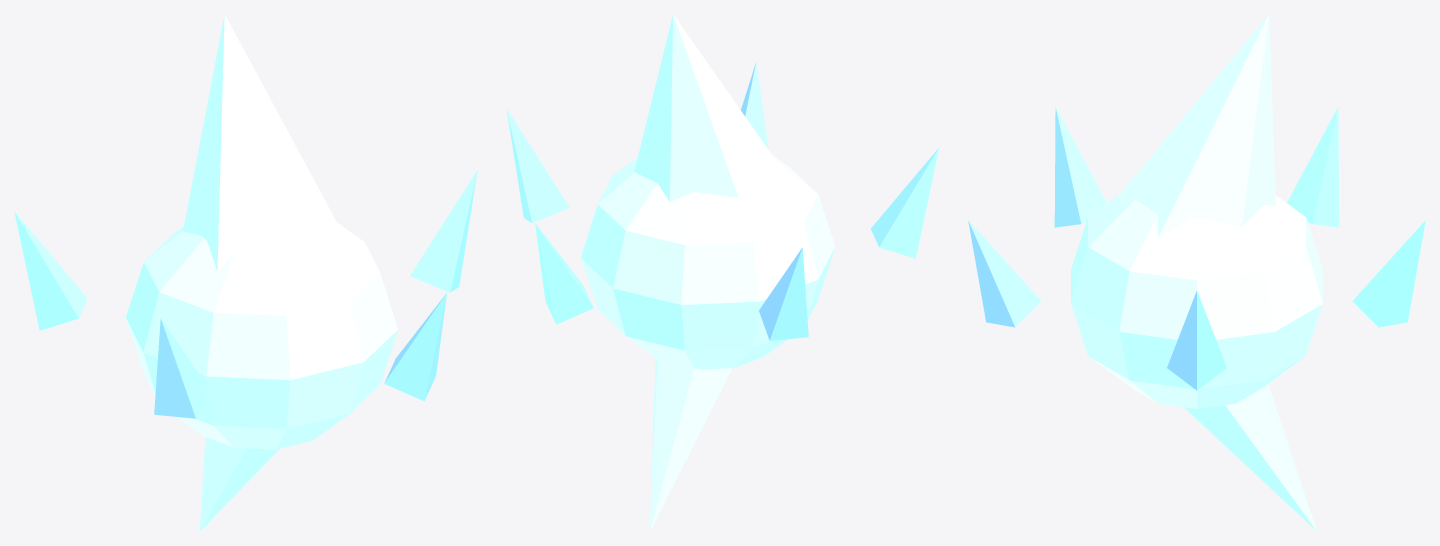
Rendered from arpg.wisp.glb.
3 renders of one model, left to right at view 1: azimuth 30°, elevation 25°; view 2: azimuth 150°, elevation 25°; view 3: azimuth 270°, elevation 25°, orthographic. The views are drawn at different scales.
Parts seen in each view (by area): view 1: wisp_flame, wisp_shards; view 2: wisp_flame, wisp_shards; view 3: wisp_flame, wisp_shards.
Boxes of the visible parts, x1=… form: wisp_flame: x1=126, y1=14, x2=398, y2=531; wisp_shards: x1=14, y1=170, x2=477, y2=418; wisp_flame: x1=580, y1=14, x2=835, y2=530; wisp_shards: x1=506, y1=61, x2=939, y2=340; wisp_flame: x1=1071, y1=14, x2=1322, y2=531; wisp_shards: x1=968, y1=107, x2=1425, y2=390.
Size of the model in its own units: 0.7236 by 0.95 by 0.7608.
